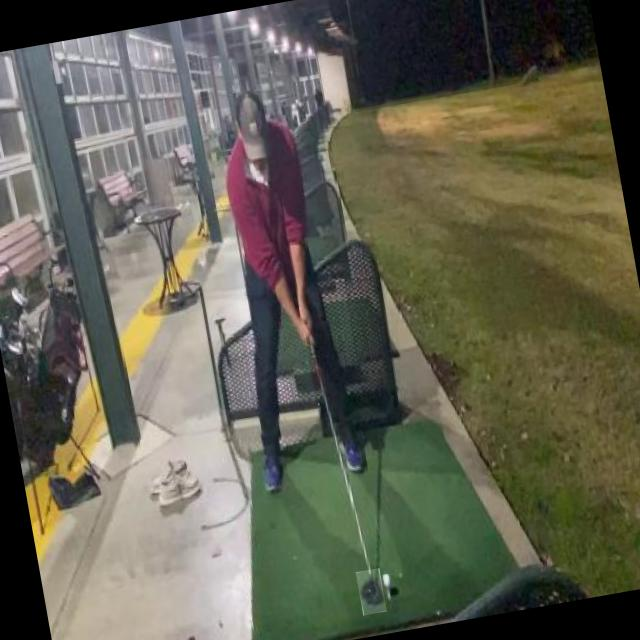club head: (356, 568, 386, 616)
